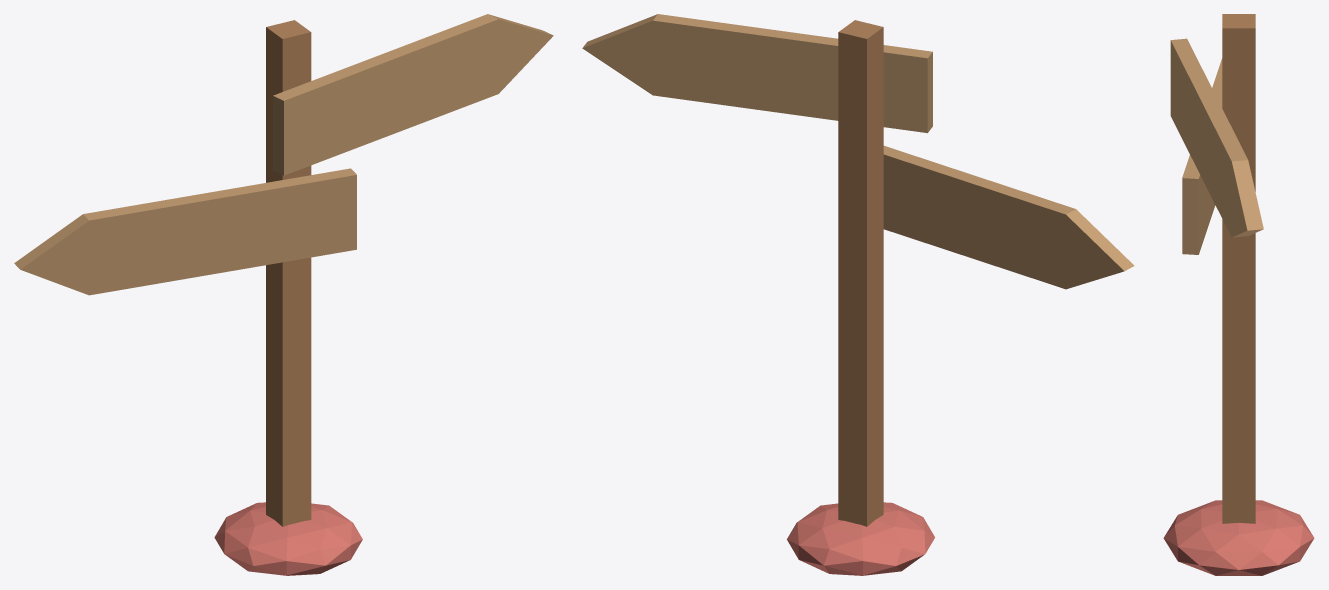
File: deco_signpost.obj
3 renders of one model, left to right at view 1: azimuth 30°, elevation 25°; view 2: azimuth 150°, elevation 25°; view 3: azimuth 270°, elevation 25°, orthographic.
Parts seen in each view (by area): view 1: deco_signpost; view 2: deco_signpost; view 3: deco_signpost.
Part boxes in pixels (x1,y1,x2,y2): deco_signpost: (14, 14, 553, 575); deco_signpost: (582, 14, 1134, 575); deco_signpost: (1163, 14, 1314, 575).
Bounding box in the file's own units: 0.0756 × 0.0711 × 0.018.
Materials: 1 (1 with a texture image).
